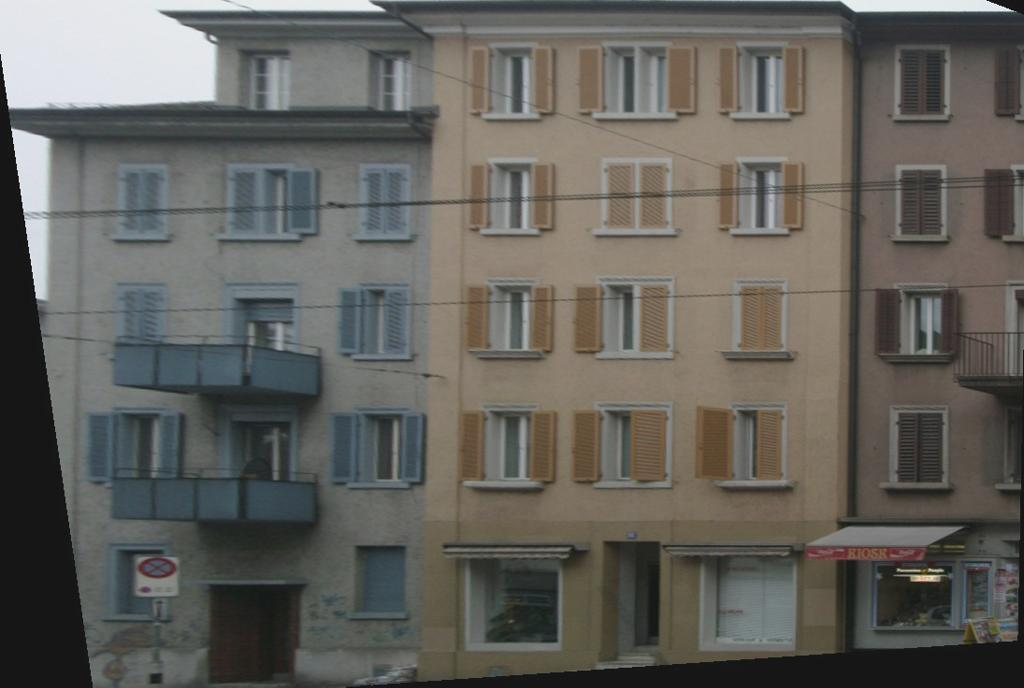window: (604, 413, 662, 482), (231, 422, 291, 480), (355, 546, 405, 613), (113, 550, 163, 617), (233, 297, 293, 352), (736, 410, 780, 480), (899, 414, 943, 483), (489, 412, 532, 481), (243, 49, 290, 112), (122, 168, 166, 235), (119, 413, 160, 483), (120, 285, 160, 356), (902, 49, 945, 115), (742, 47, 784, 113), (492, 48, 534, 114), (492, 163, 534, 229), (742, 163, 784, 229), (491, 285, 533, 351), (740, 286, 782, 352), (359, 415, 401, 481), (364, 289, 406, 355), (364, 169, 406, 235), (903, 292, 946, 355), (370, 51, 412, 113), (902, 171, 942, 235), (640, 164, 669, 231), (642, 285, 671, 352), (606, 46, 634, 113), (607, 164, 635, 231), (604, 285, 632, 352), (641, 47, 667, 114), (265, 169, 288, 233), (235, 170, 256, 232)
